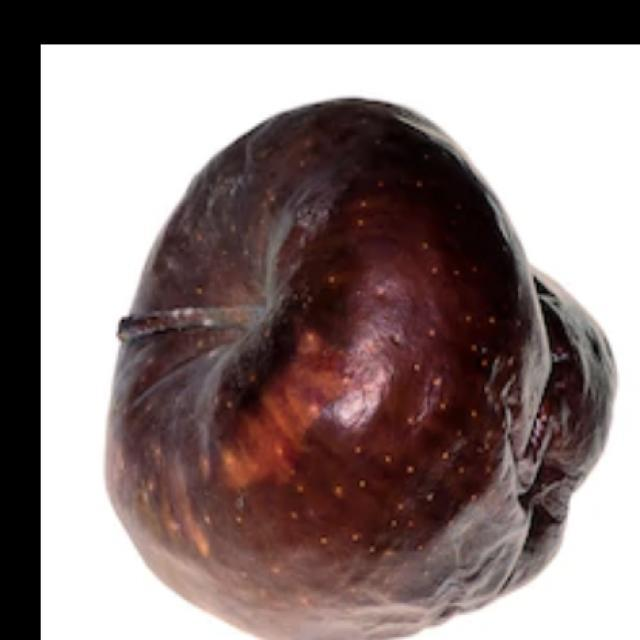Rotten: (104, 90, 621, 640)
